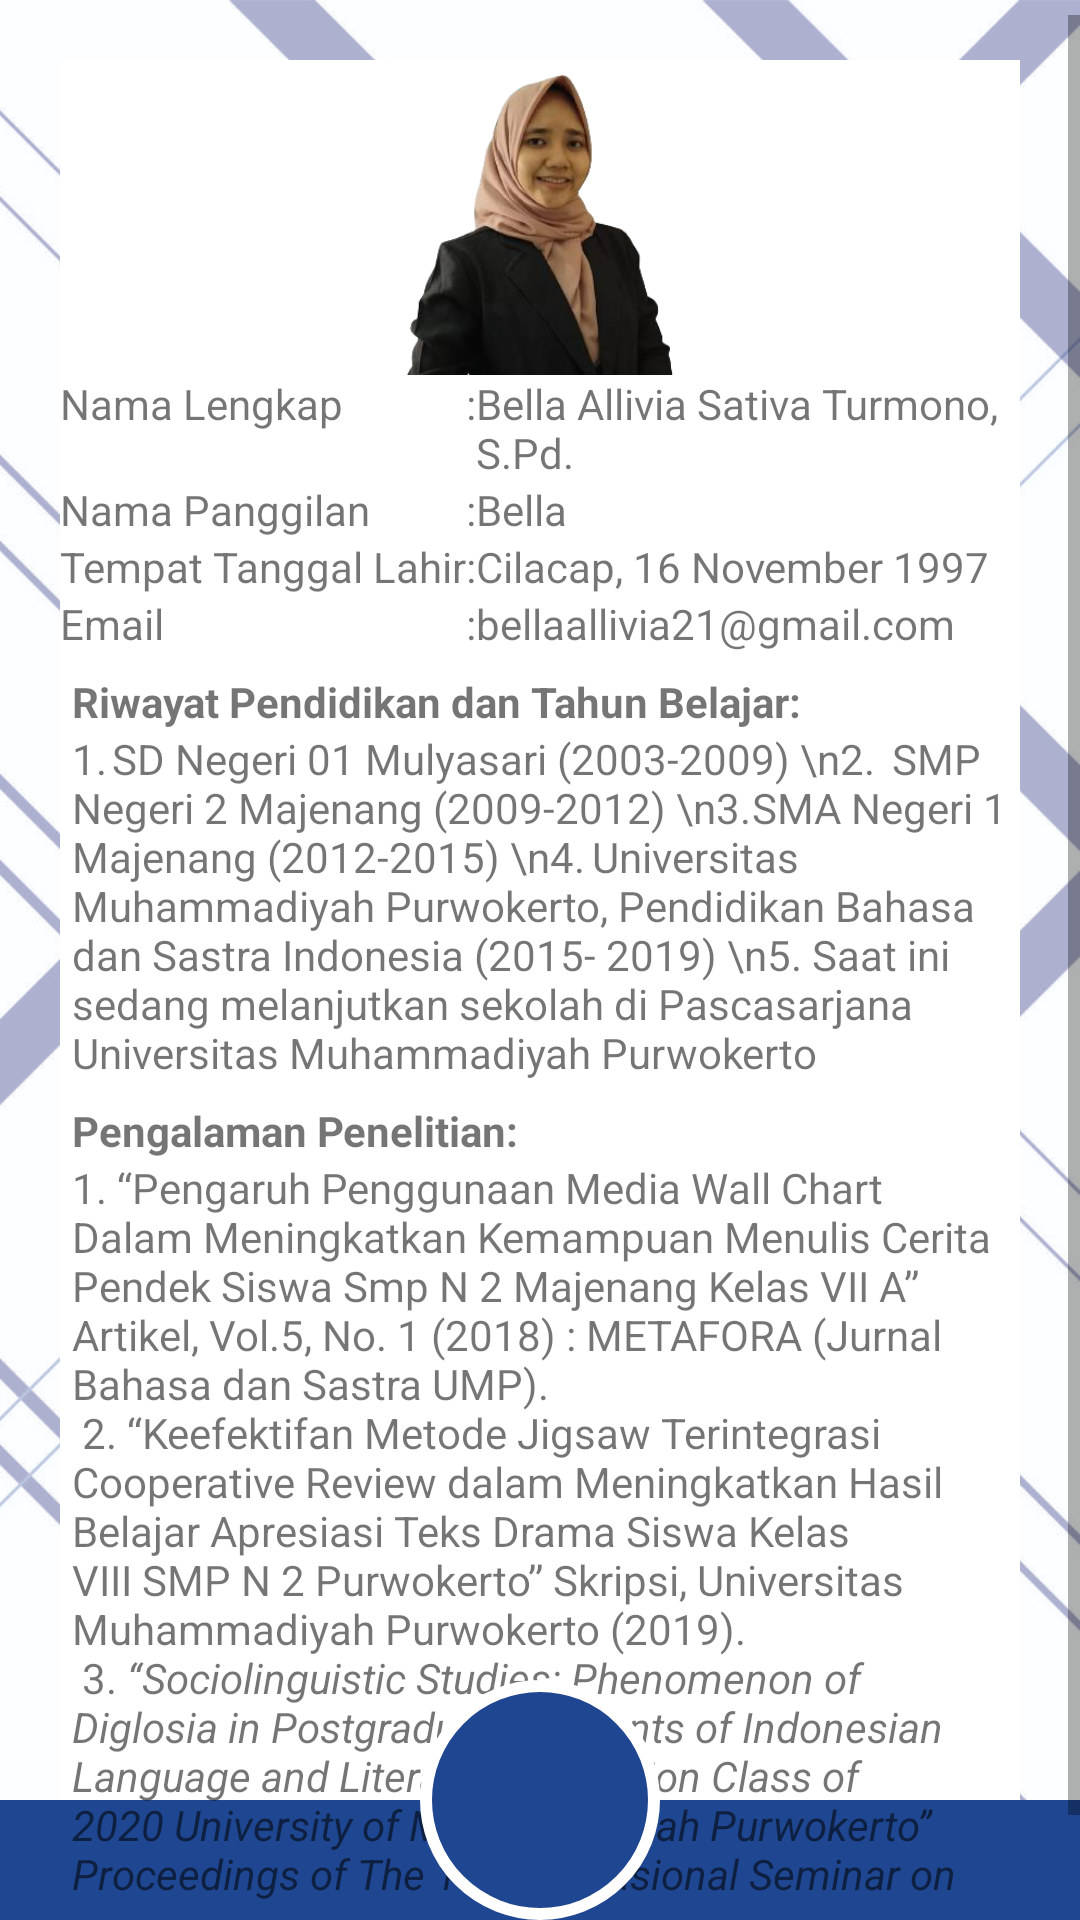

Icon bounding boxes for this 1080 x 1920 phone screenshot, format (left=x1, top=y1, right=x2, bottom=y2):
photoprofil: (left=407, top=75, right=673, bottom=375)
